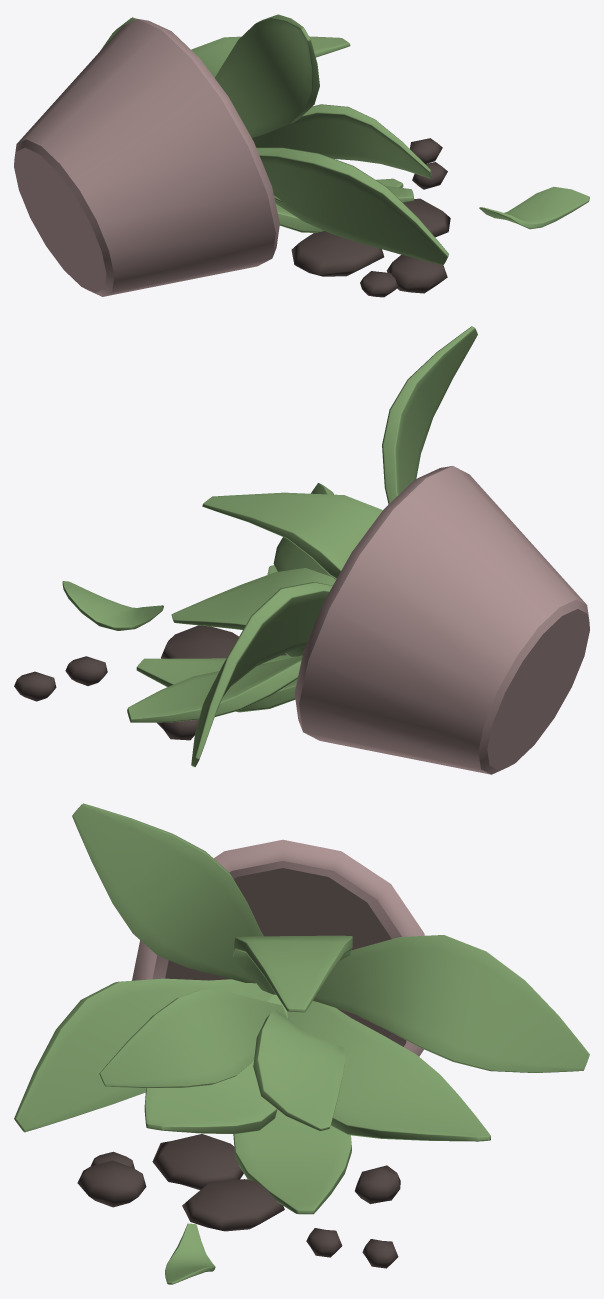
Rendered from SM_plant_fallen.fbx.
The picture shows the model from 3 angles, top to bottom: view 1: azimuth 30°, elevation 25°; view 2: azimuth 150°, elevation 25°; view 3: azimuth 270°, elevation 25°; orthographic projection. The views are drawn at different scales.
Visible parts, largest first — view 1: SM_plant_fallen; view 2: SM_plant_fallen; view 3: SM_plant_fallen.
Boxes of the visible parts, x1,y1,x2,y2 form: SM_plant_fallen: (14, 14, 589, 297); SM_plant_fallen: (14, 326, 589, 774); SM_plant_fallen: (14, 803, 589, 1284).
Bounding box in the file's own units: 44.46 × 25.71 × 40.64.
